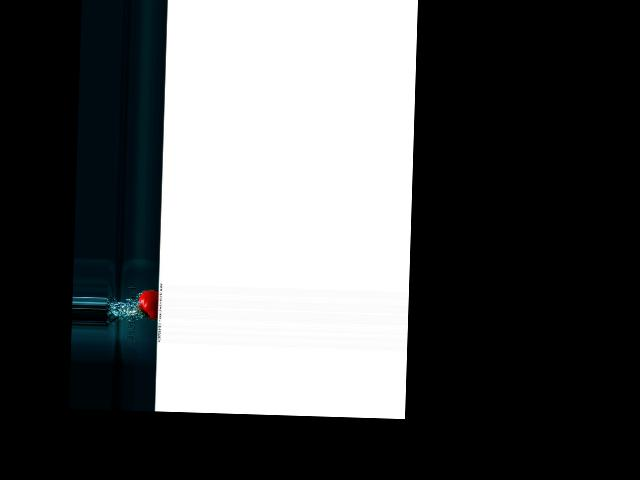tomato: (138, 290, 158, 320)
